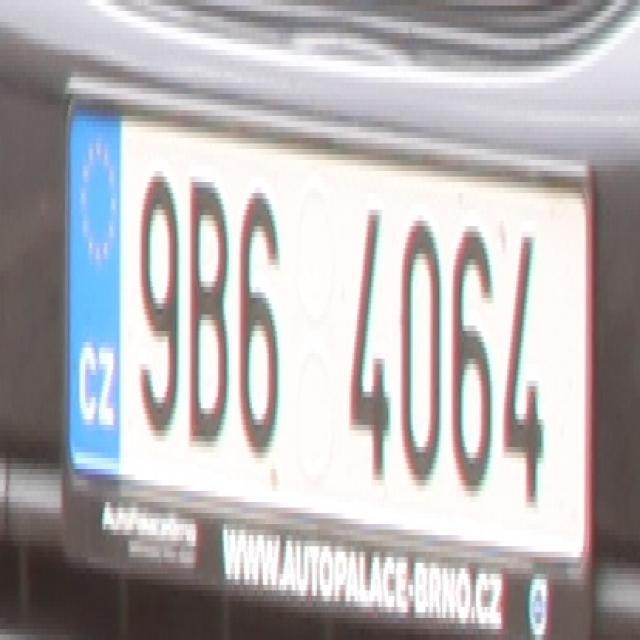0: (397, 204, 444, 497)
4: (502, 226, 548, 519), (348, 198, 390, 481)
6: (234, 182, 278, 469), (450, 220, 495, 492)
9: (134, 165, 181, 436)
B: (186, 176, 230, 442)
